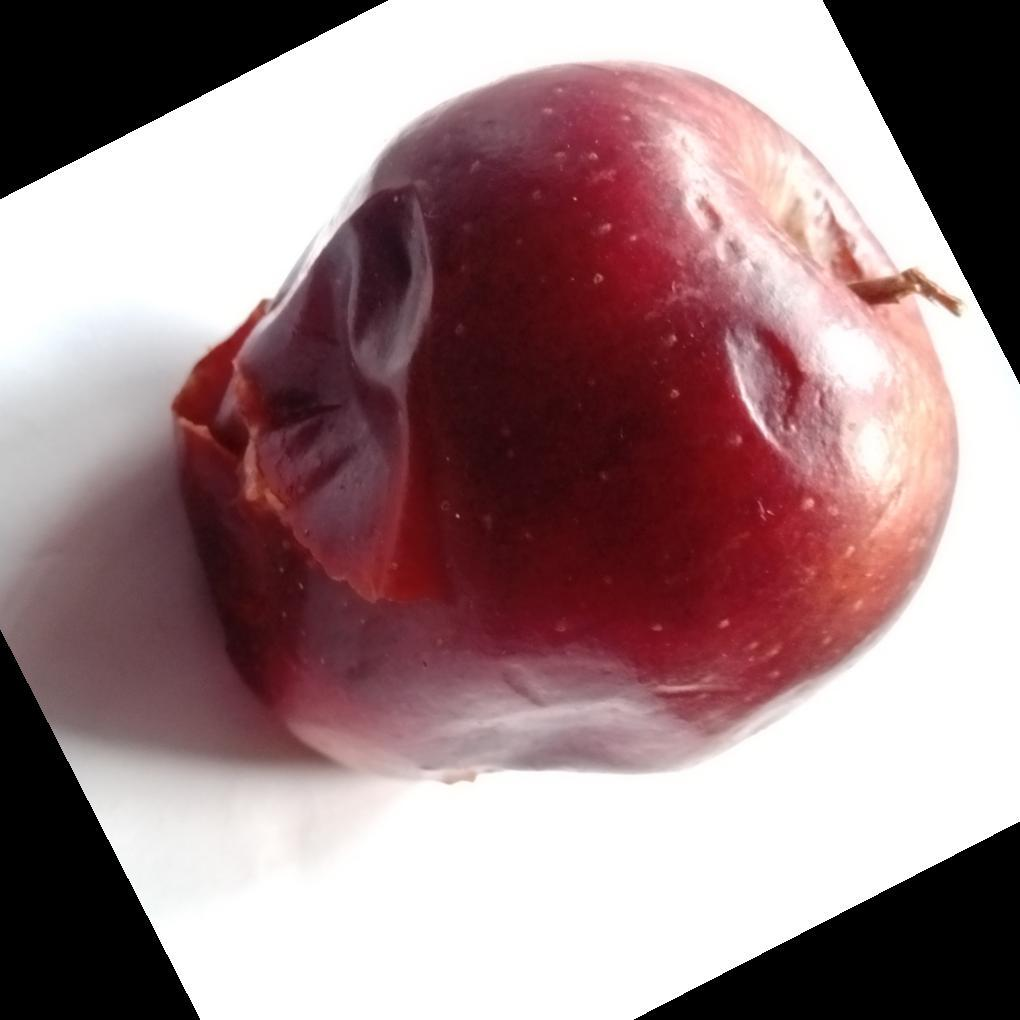FreshOrange: (171, 58, 961, 788)
